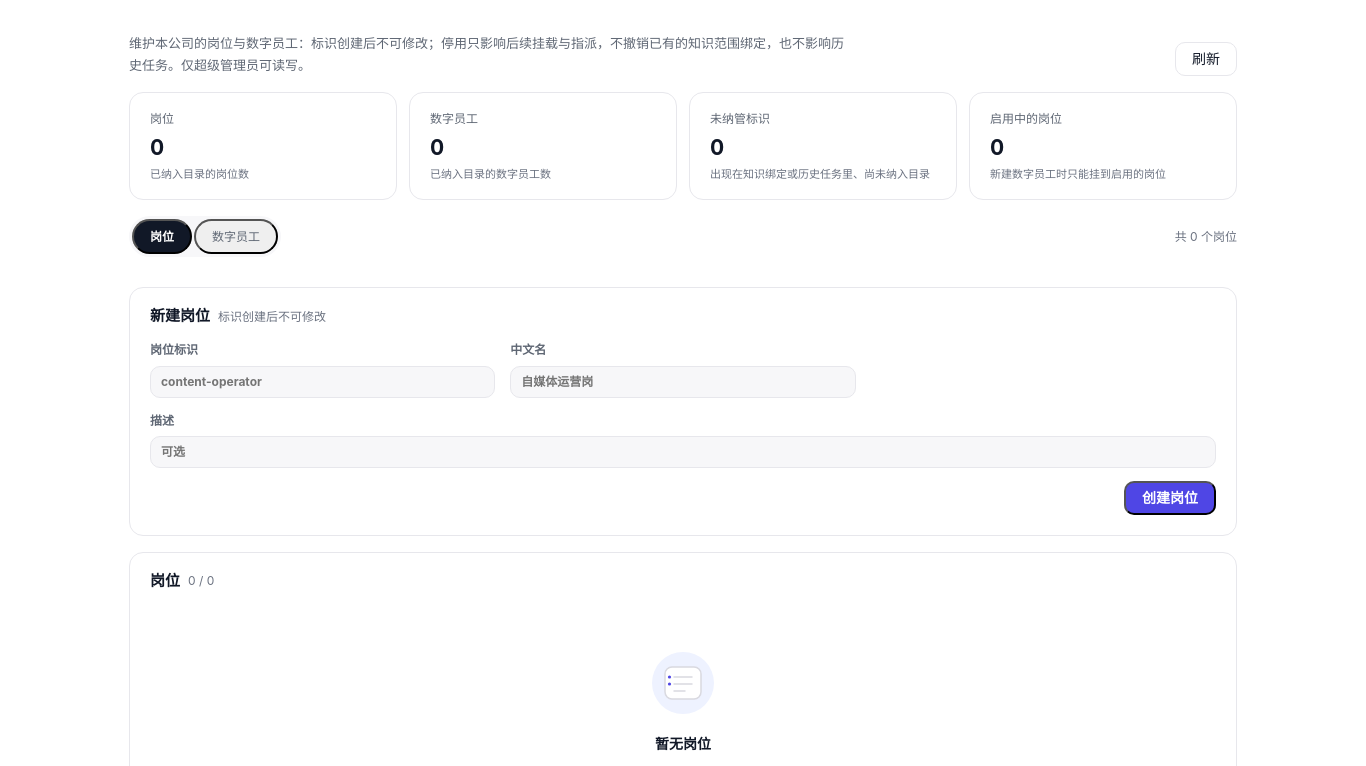
Test: WorkforceSettingsPage › creates a role and shows it after the reload
Expected: the heading "暂无岗位" is shown, [655, 733, 711, 755]
Step 1. Type "geo-operator" into the field labelled "岗位标识" → [323, 382], box [150, 366, 495, 398]
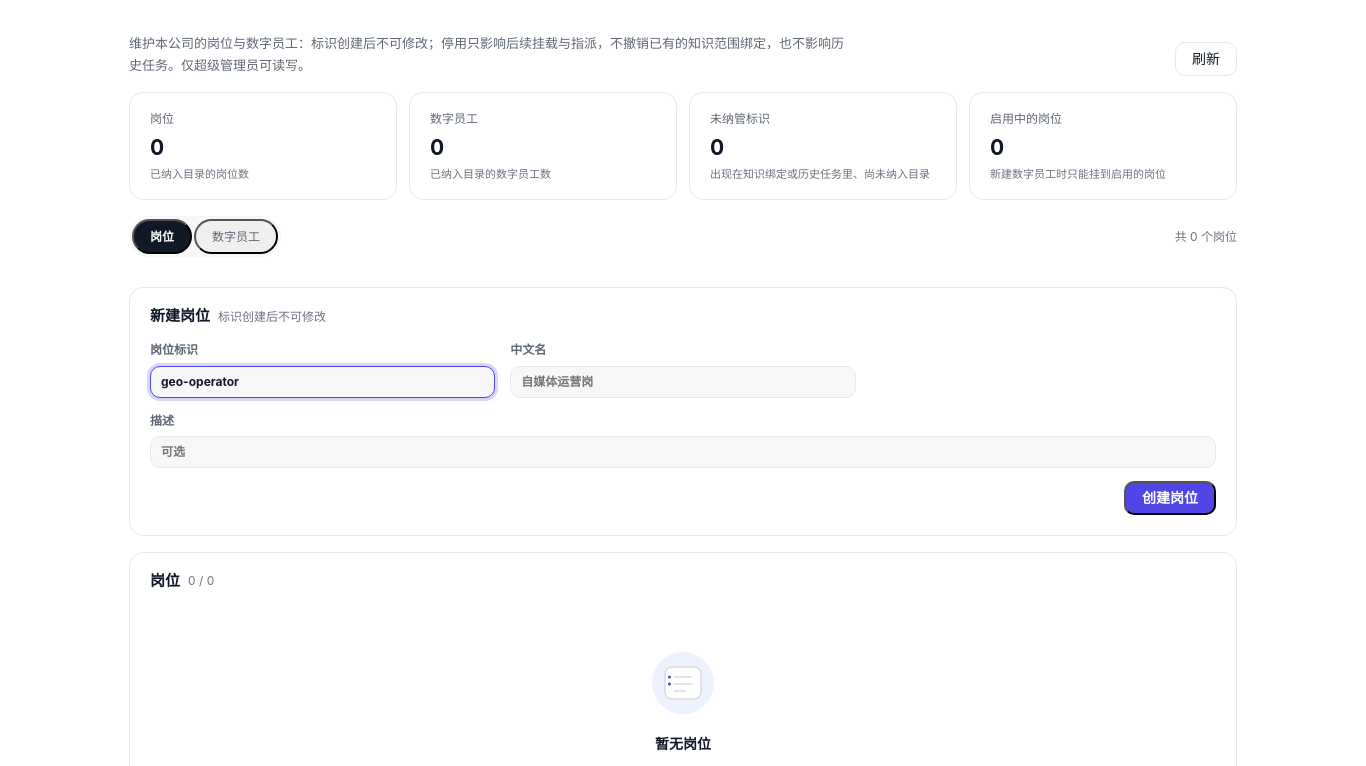
Step 2. Type "GEO 运营岗" into the field labelled "中文名" → [683, 382], box [510, 366, 856, 398]
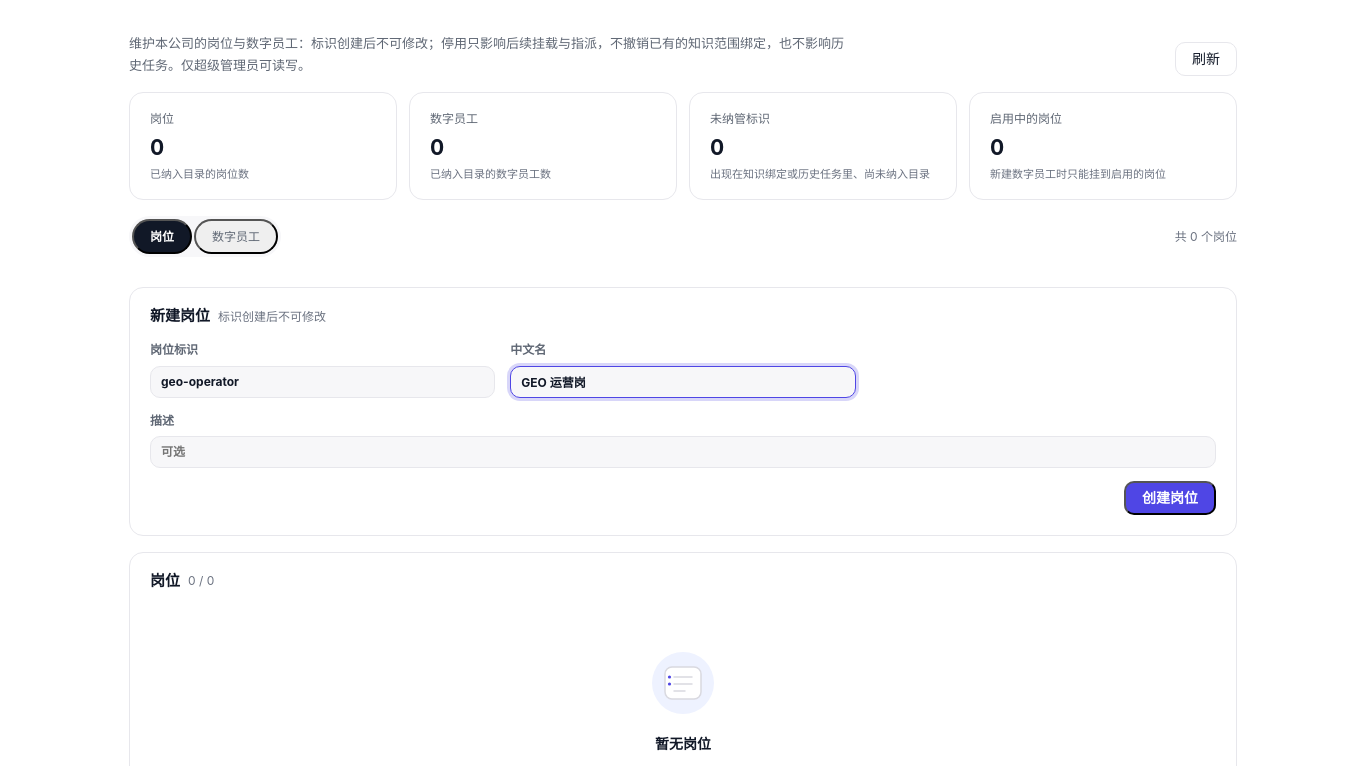
Step 3. Click the button "创建岗位" → [1170, 498], box [1124, 481, 1216, 515]
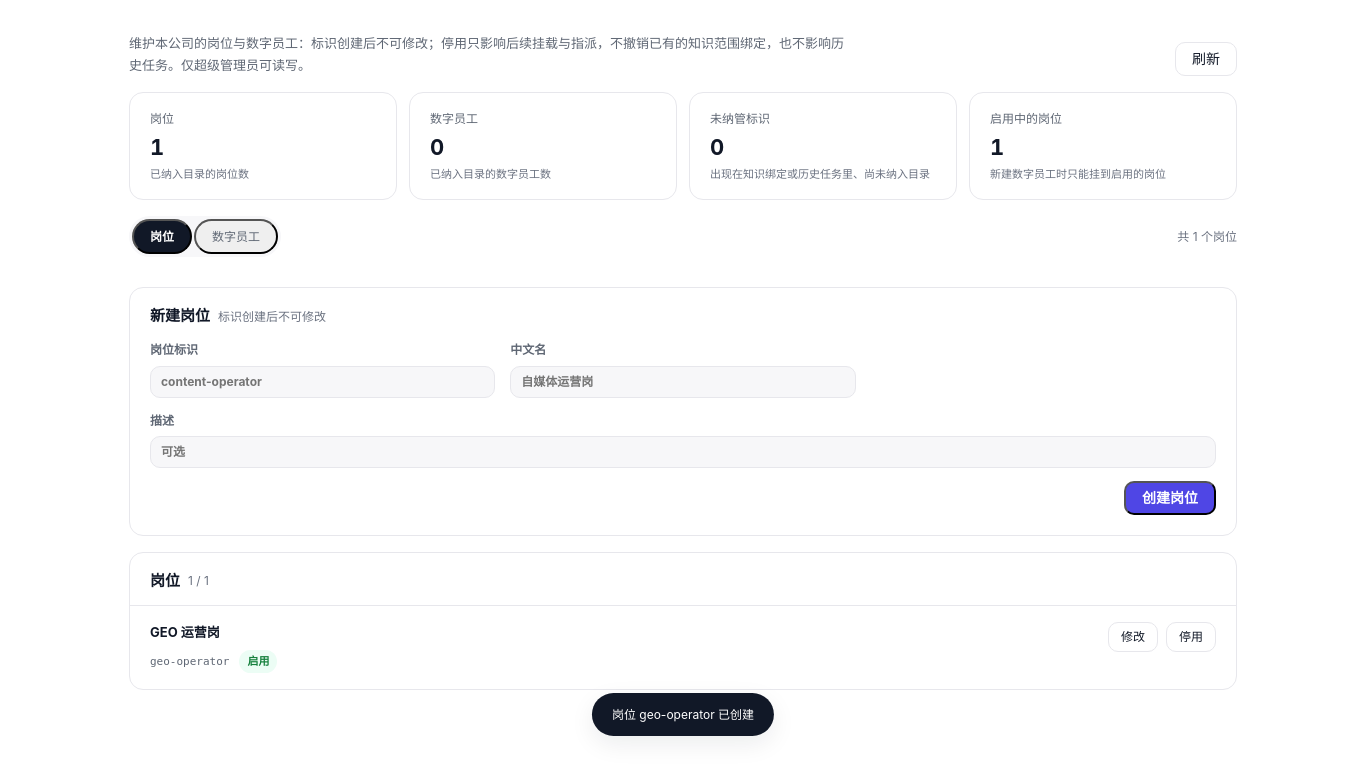
Result: the text "GEO 运营岗" is shown at [150, 624, 220, 640]
